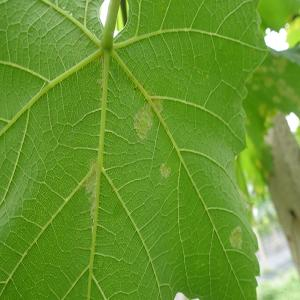Folha: (0, 0, 268, 299)
Fungo: (133, 94, 163, 140), (84, 167, 97, 220), (263, 26, 289, 52), (229, 225, 243, 250), (173, 291, 199, 299), (159, 162, 171, 178)
